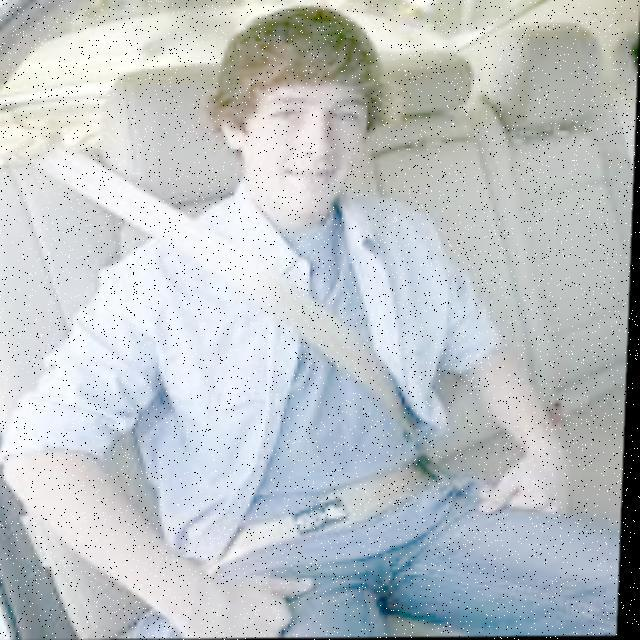seatbelt: (128, 190, 478, 570)
